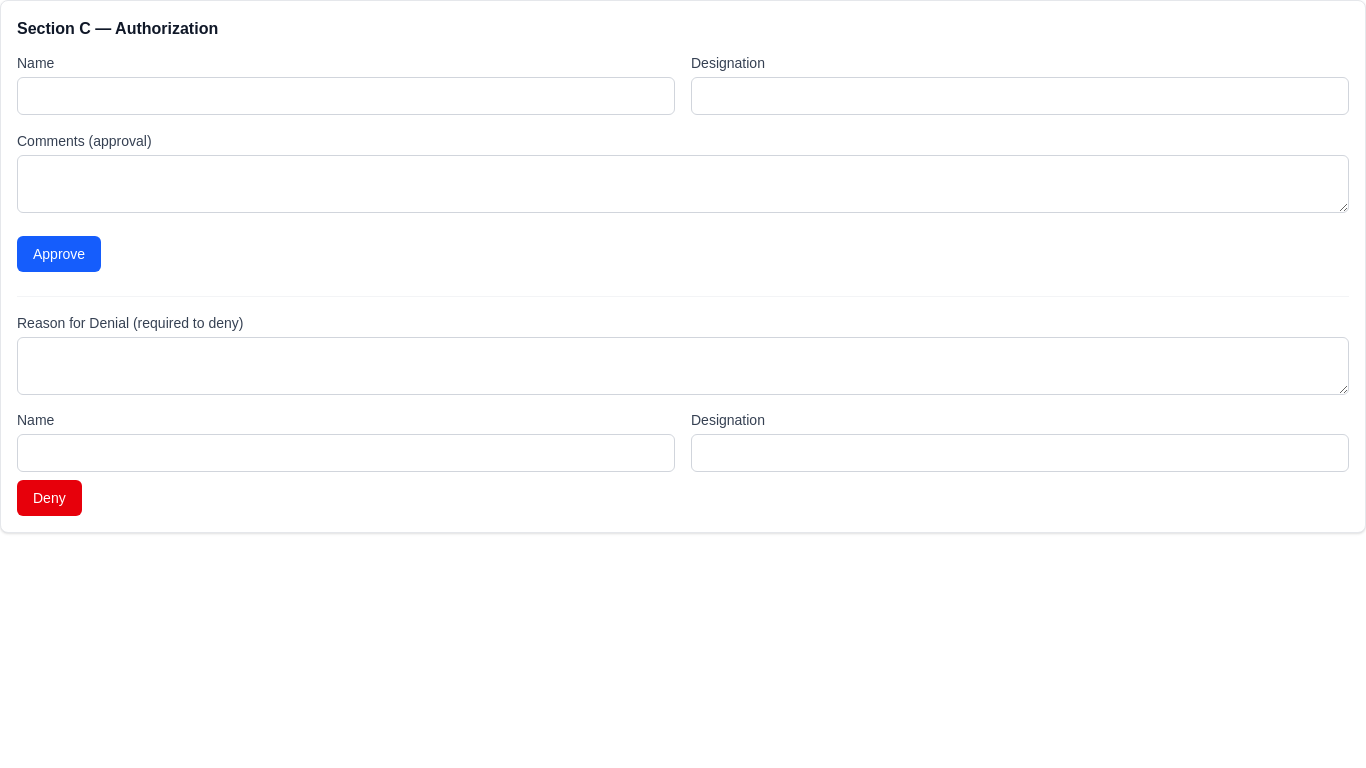
Test case: ApprovalForm › requires a reason to deny, and blocks submission when empty
What coordinates should you click on to do the following:
click the button "Deny"
I would click on:
 (49, 498)
Its box is 17,480 -> 82,516.
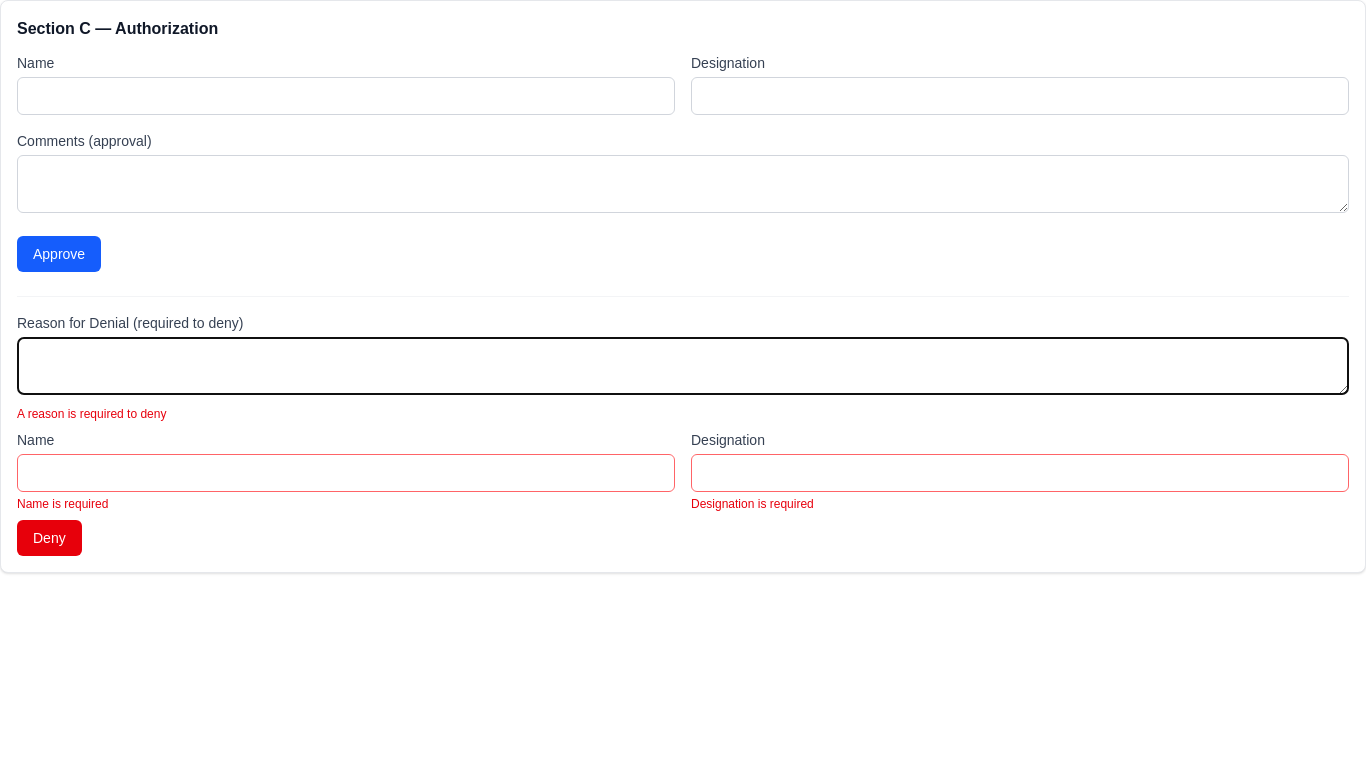
Now the text "A reason is required to deny" is shown, box 17,407 -> 166,421
